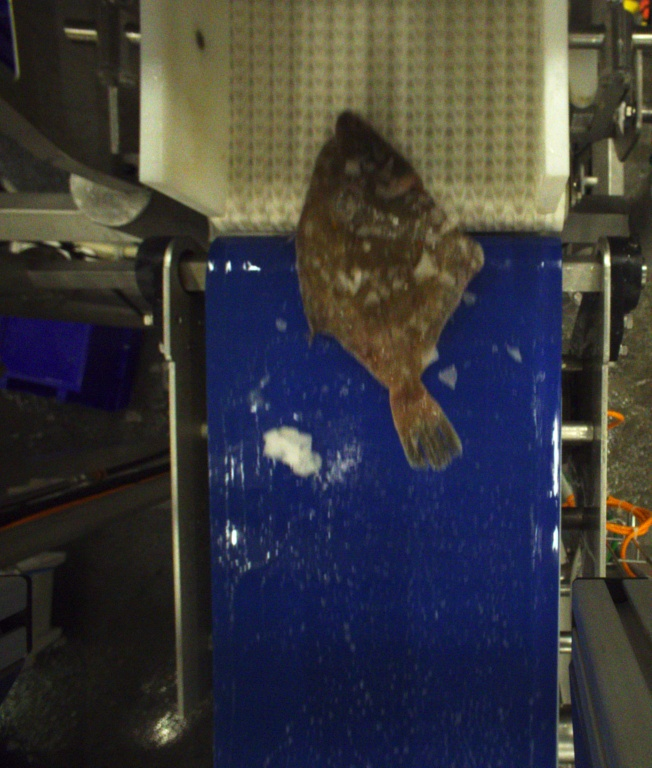PLE: (293, 108, 486, 471)
